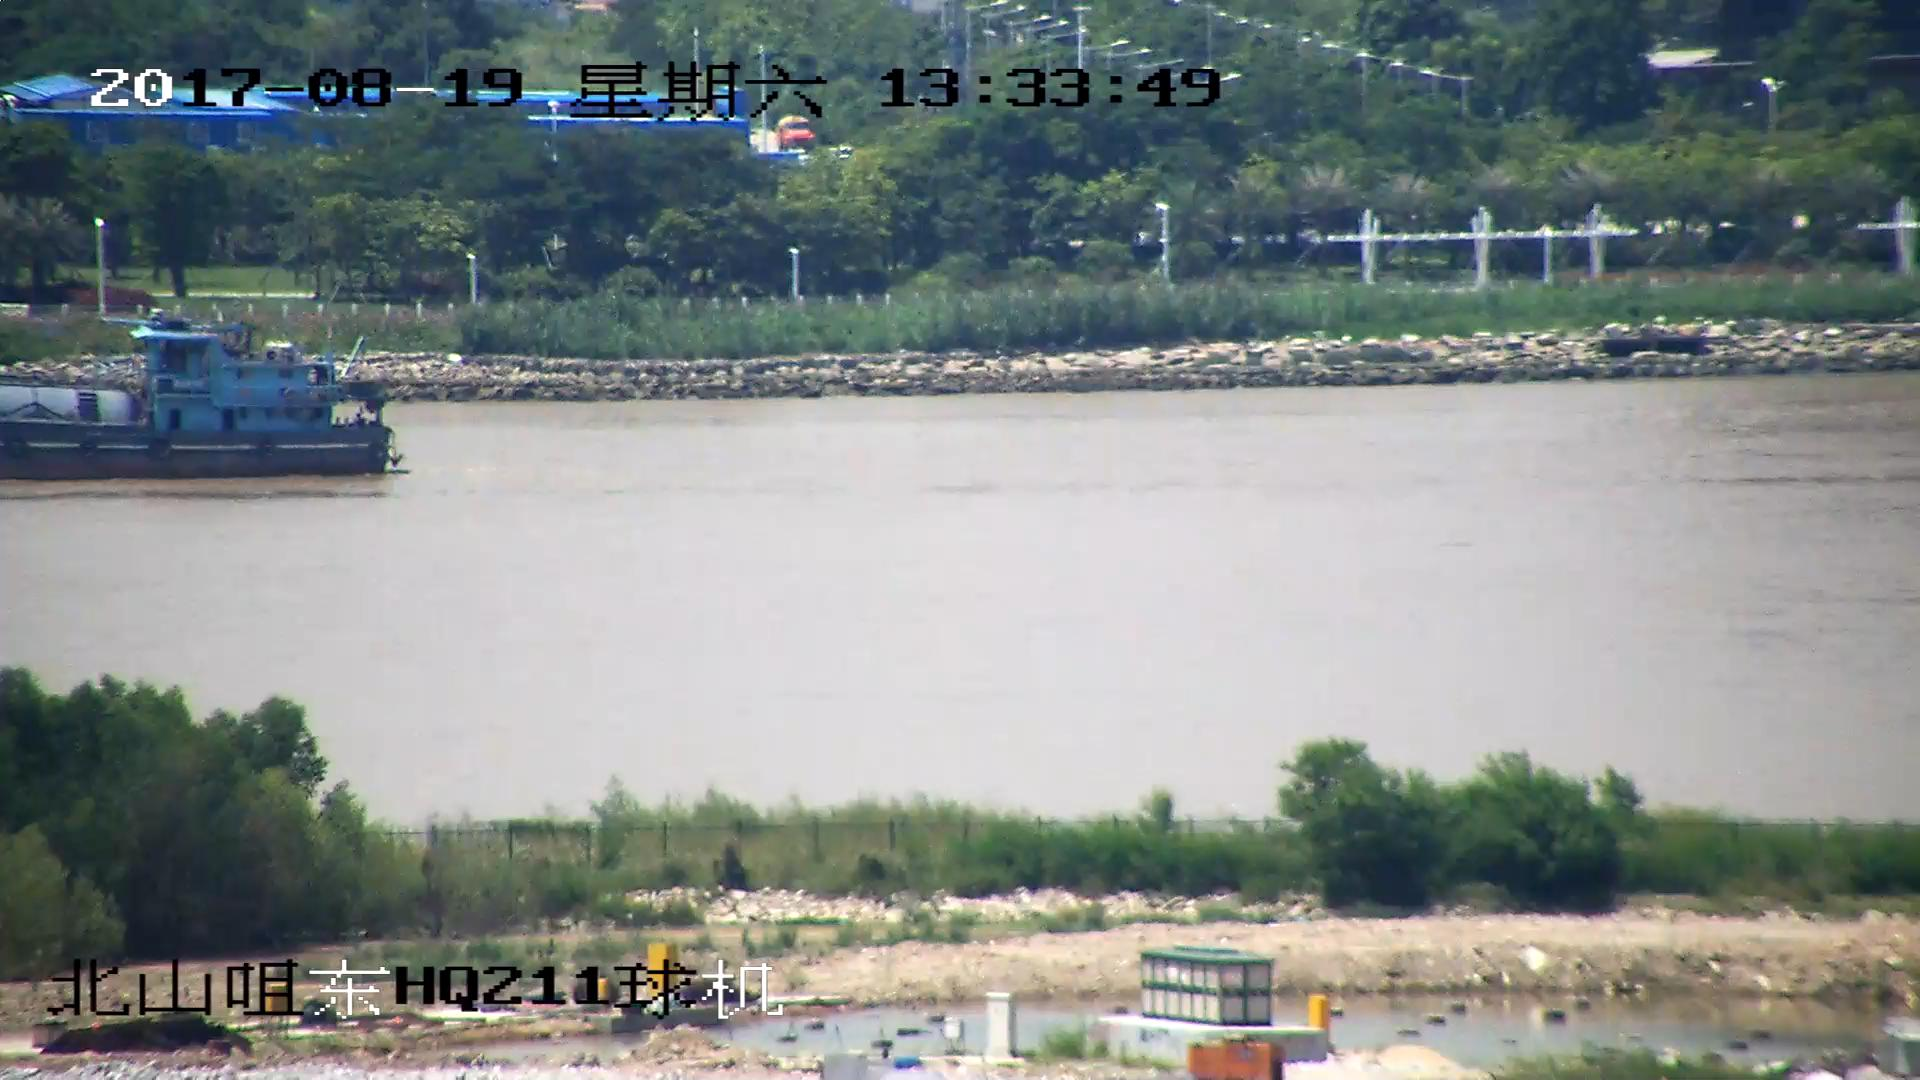bulk cargo carrier: (1, 311, 401, 477)
